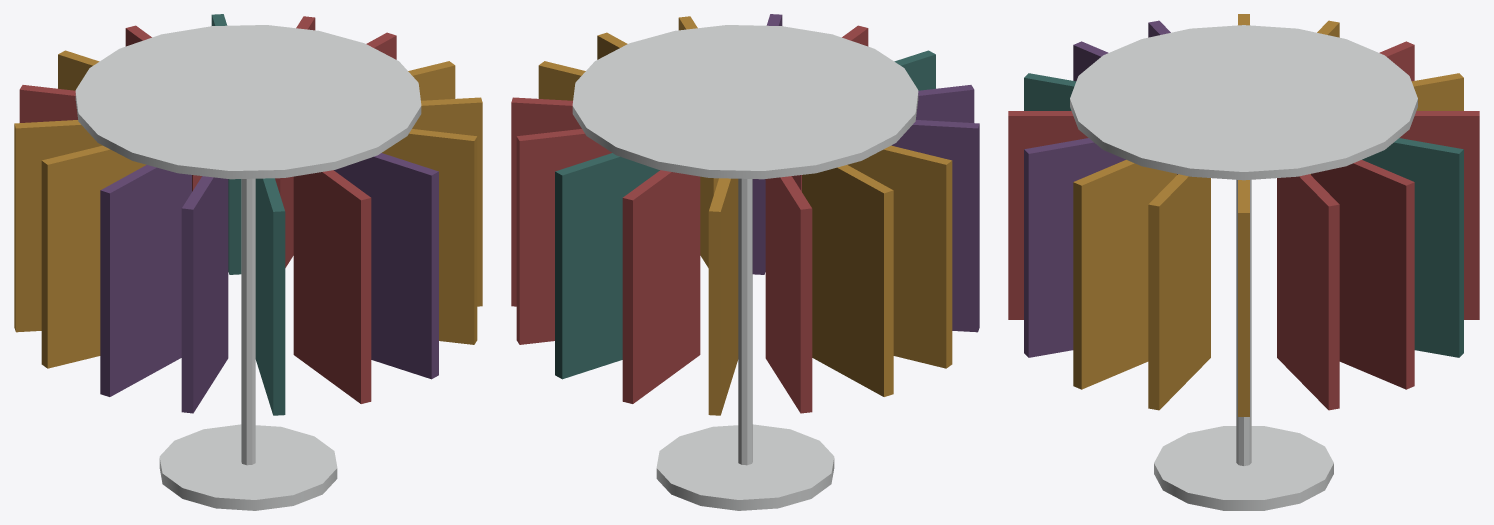
File: clothes_rack.glb
3 renders of one model, left to right at view 1: azimuth 30°, elevation 25°; view 2: azimuth 150°, elevation 25°; view 3: azimuth 270°, elevation 25°, orthographic.
Parts seen in each view (by area): view 1: ClothesRack; view 2: ClothesRack; view 3: ClothesRack.
Part boxes in pixels (x1=…): ClothesRack: x1=14, y1=14, x2=482, y2=510; ClothesRack: x1=511, y1=14, x2=979, y2=510; ClothesRack: x1=1008, y1=14, x2=1479, y2=510.
Bounding box in the file's own units: 1.57 × 1.38 × 1.57.
